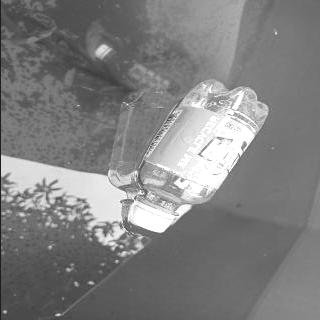bottle: (124, 78, 270, 234)
